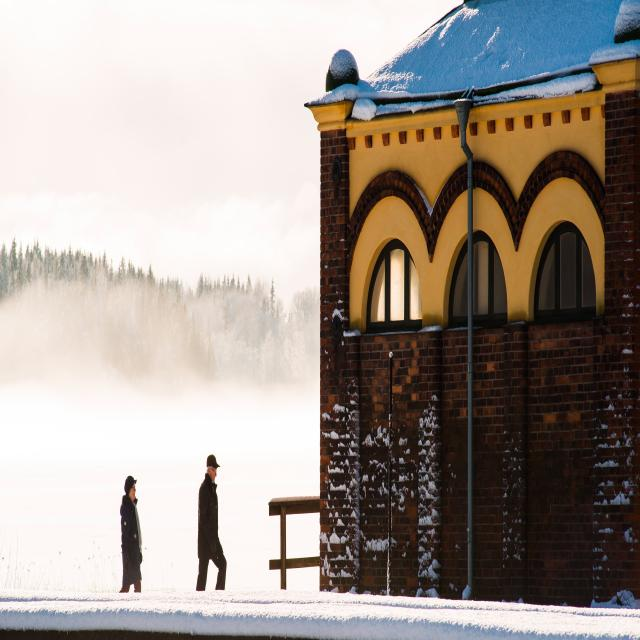adult: (196, 454, 226, 590), (119, 476, 143, 594)
